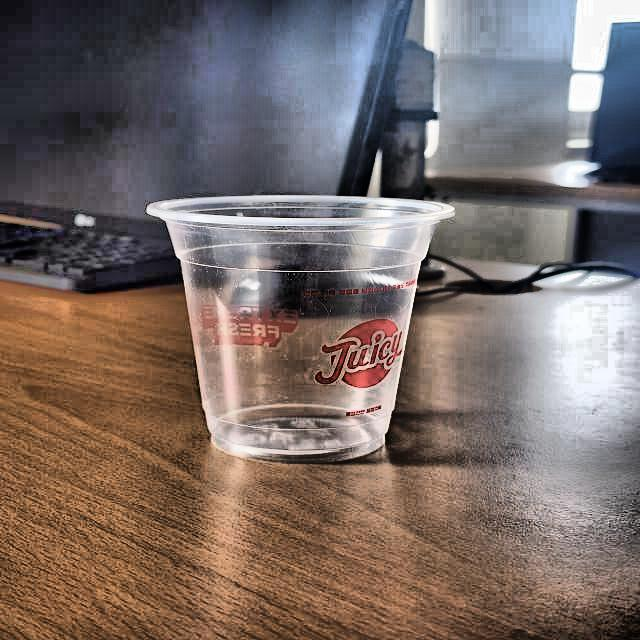plastic cup: (148, 192, 458, 460)
